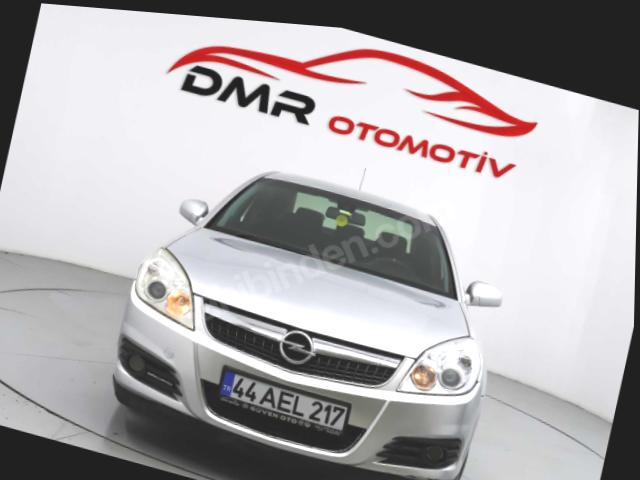plaka: (219, 369, 350, 435)
